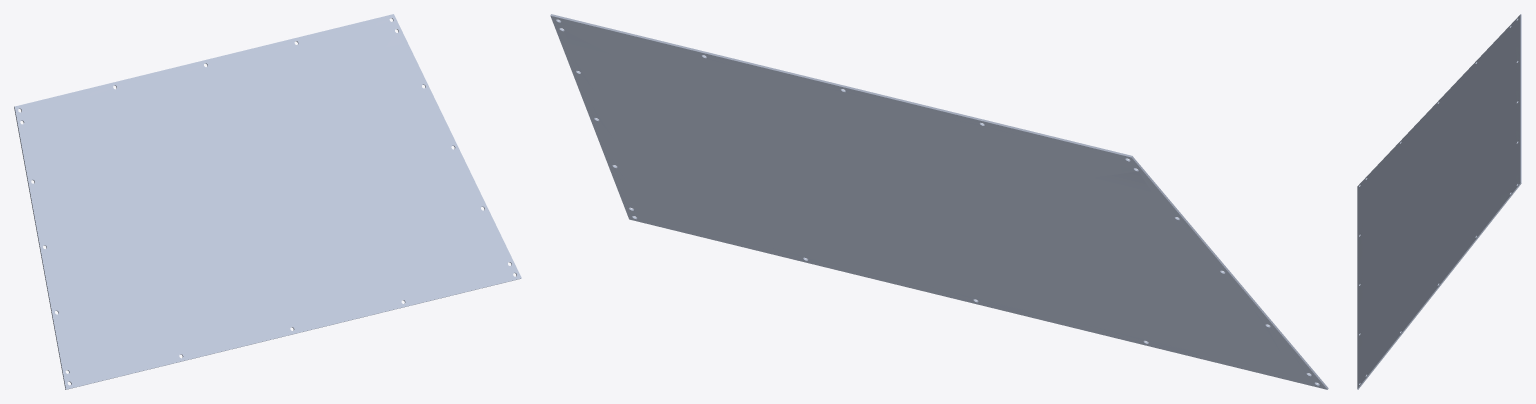
The model's file is Firewall__UA_26_Removable_Middle_Firewall_Section_1.dae.
3 views of the same model, side by side, from view 1: azimuth 30°, elevation 25°; view 2: azimuth 150°, elevation 25°; view 3: azimuth 270°, elevation 25° (orthographic). The views are drawn at different scales.
Parts seen in each view (by area): view 1: node0; view 2: node0; view 3: node0.
Part boxes in pixels (bbox=[...]): node0: bbox=[14, 14, 521, 389]; node0: bbox=[550, 14, 1328, 389]; node0: bbox=[1357, 14, 1521, 389].
Bounding box in the file's own units: 0.5028 × 0.22 × 0.1724.
